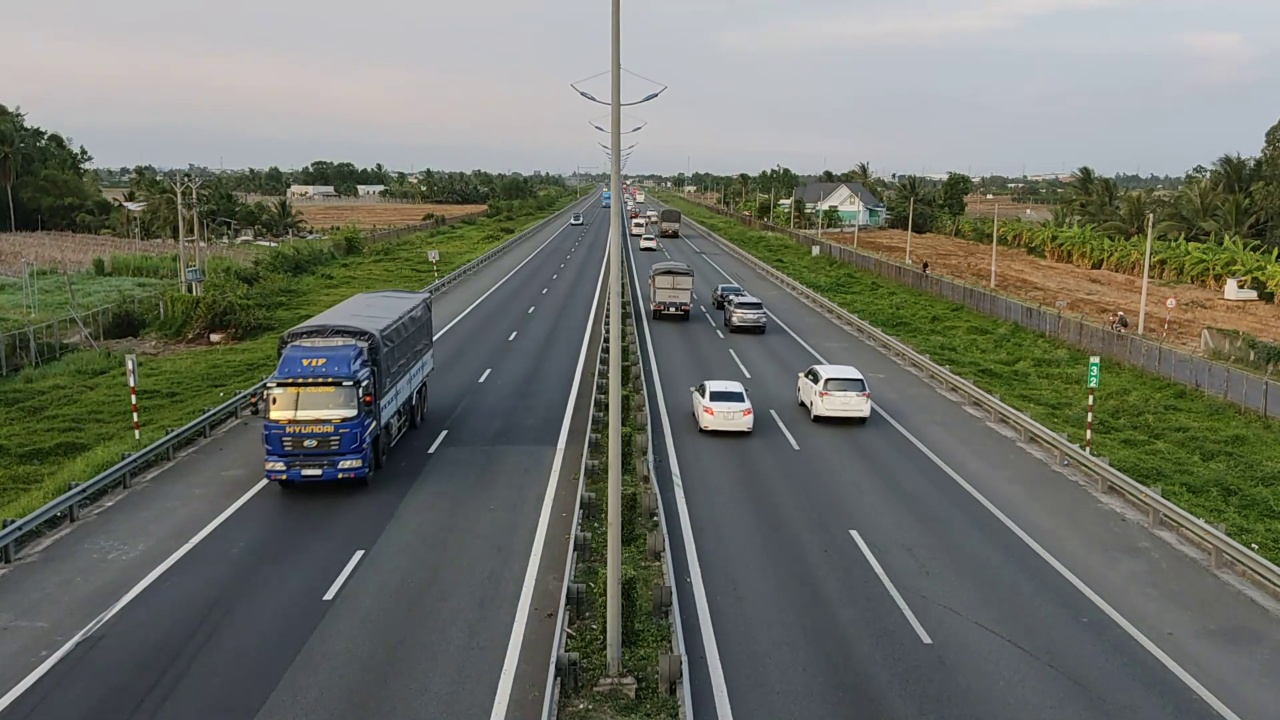car: (796, 363, 871, 423), (689, 379, 755, 433), (724, 293, 767, 333), (711, 282, 751, 309)
truck: (259, 288, 436, 486), (647, 261, 695, 320)
